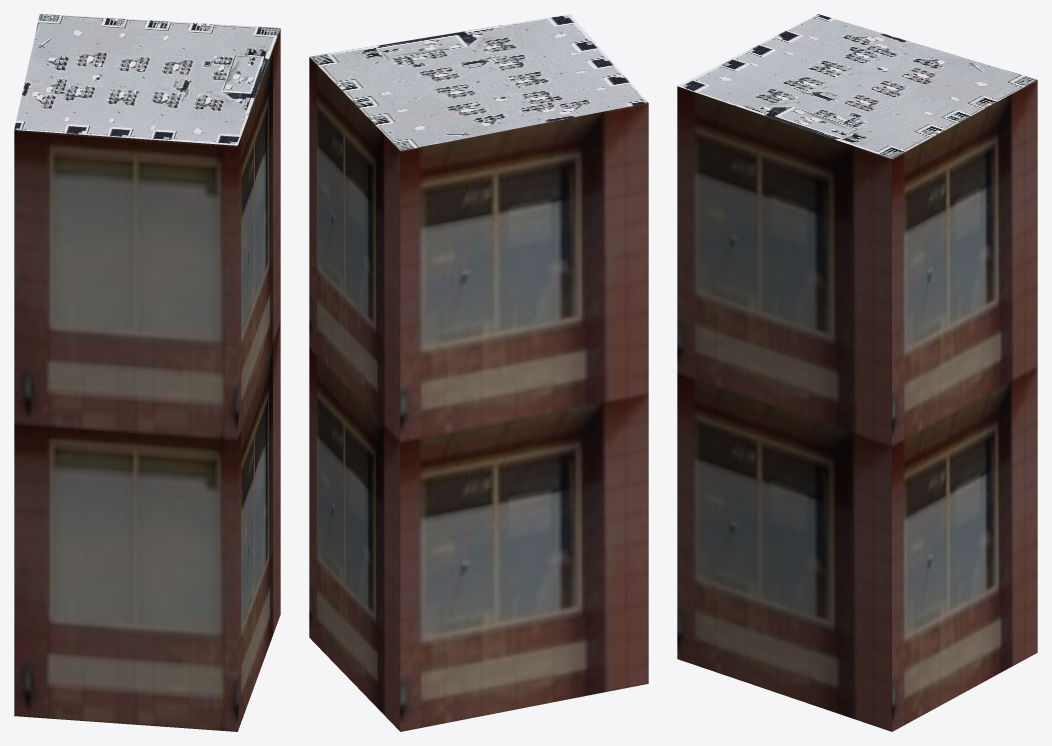
Rendered from ResTex__3967.fbx.
3 renders of one model, left to right at view 1: azimuth 30°, elevation 25°; view 2: azimuth 150°, elevation 25°; view 3: azimuth 270°, elevation 25°, orthographic. The views are drawn at different scales.
Parts seen in each view (by area): view 1: CityEngineMaterial_13_m, CityEngineMaterial_8_m; view 2: CityEngineMaterial_13_m, CityEngineMaterial_8_m; view 3: CityEngineMaterial_13_m, CityEngineMaterial_8_m.
Boxes of the visible parts, x1,y1,x2,y2 form: CityEngineMaterial_13_m: (14, 29, 280, 731); CityEngineMaterial_8_m: (14, 14, 280, 145); CityEngineMaterial_13_m: (309, 57, 648, 731); CityEngineMaterial_8_m: (309, 14, 648, 150); CityEngineMaterial_13_m: (677, 80, 1037, 731); CityEngineMaterial_8_m: (677, 14, 1037, 158).
Size of the model in its own units: 3.26 by 6 by 3.42.
Materials: 2 (2 with a texture image).
